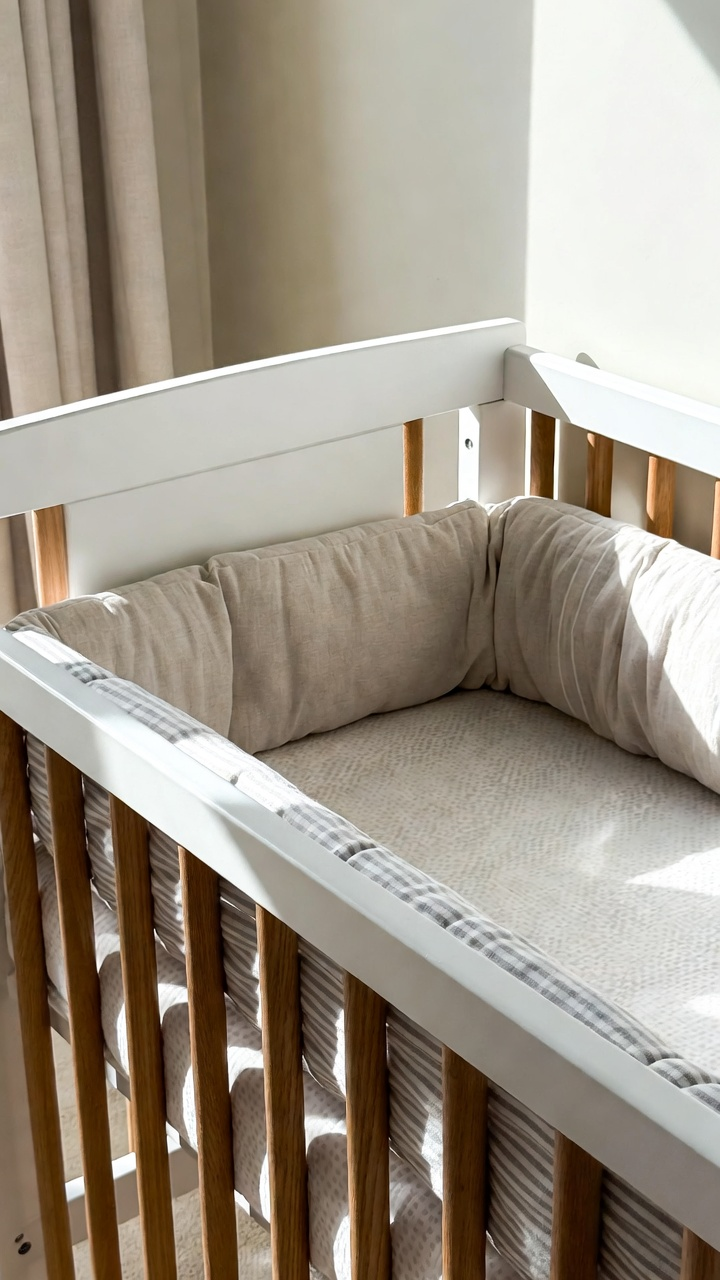crib: (0, 313, 720, 1280)
